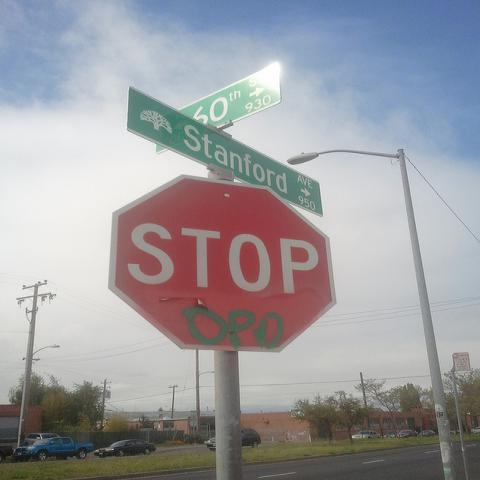car: (95, 439, 156, 458), (23, 432, 61, 446), (350, 430, 384, 441), (397, 429, 419, 438), (383, 430, 401, 437), (422, 431, 434, 436), (473, 426, 479, 434)
truck: (13, 436, 96, 460), (204, 428, 261, 452)
